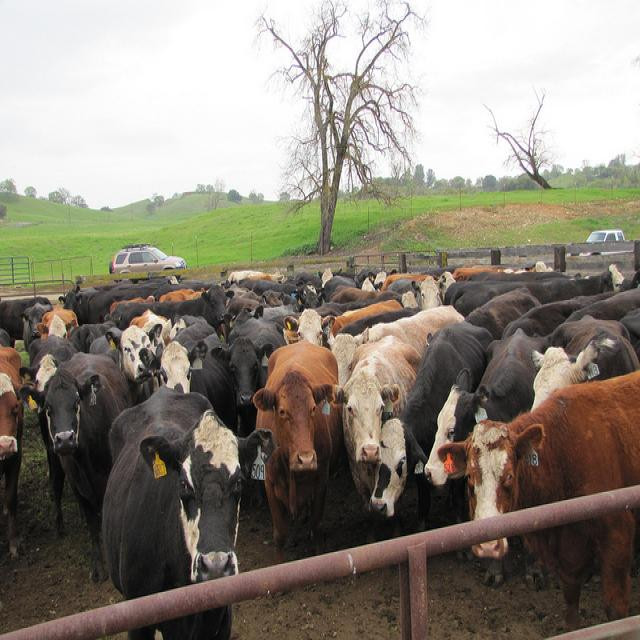Vehicle: (108, 241, 187, 274), (109, 243, 188, 274), (579, 230, 633, 256), (585, 230, 625, 242)
